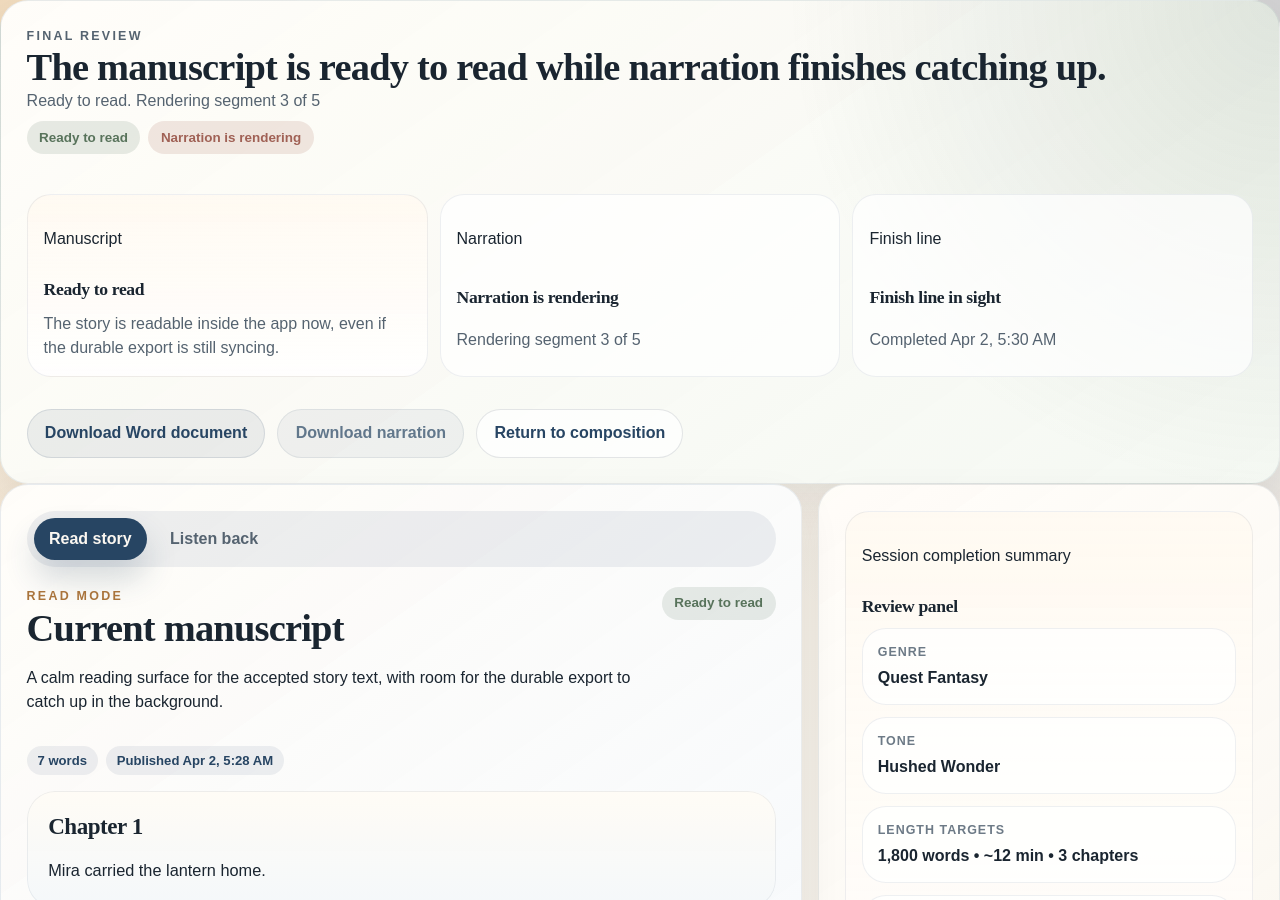
Scenario: FinalizeStage › keeps the story readable while narration is still processing
expect the heading "Chapter 1" is shown: met, box [48,813,143,839]
What coordinates should you click on to do the following:
click the tab "Listen back"
I would click on:
 (214, 539)
Its box is [155,518,273,560].
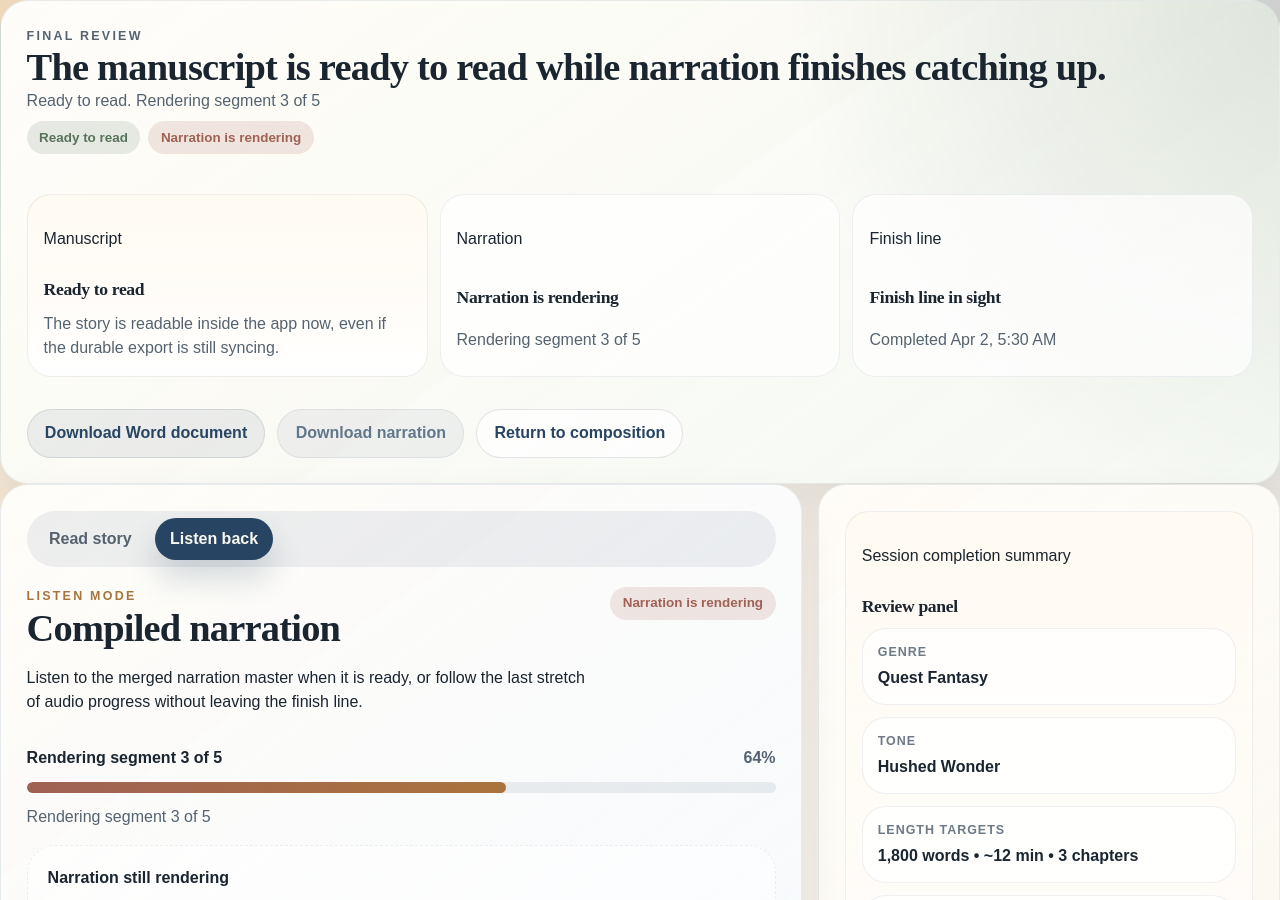
expect the text "Rendering segment 3 of 5" below "Finish line in sight" is shown: met, box [456,331,641,348]
expect the text "Narration still rendering" is shown: met, box [48,869,229,886]
expect the text "64%" is shown: met, box [744,746,776,770]
